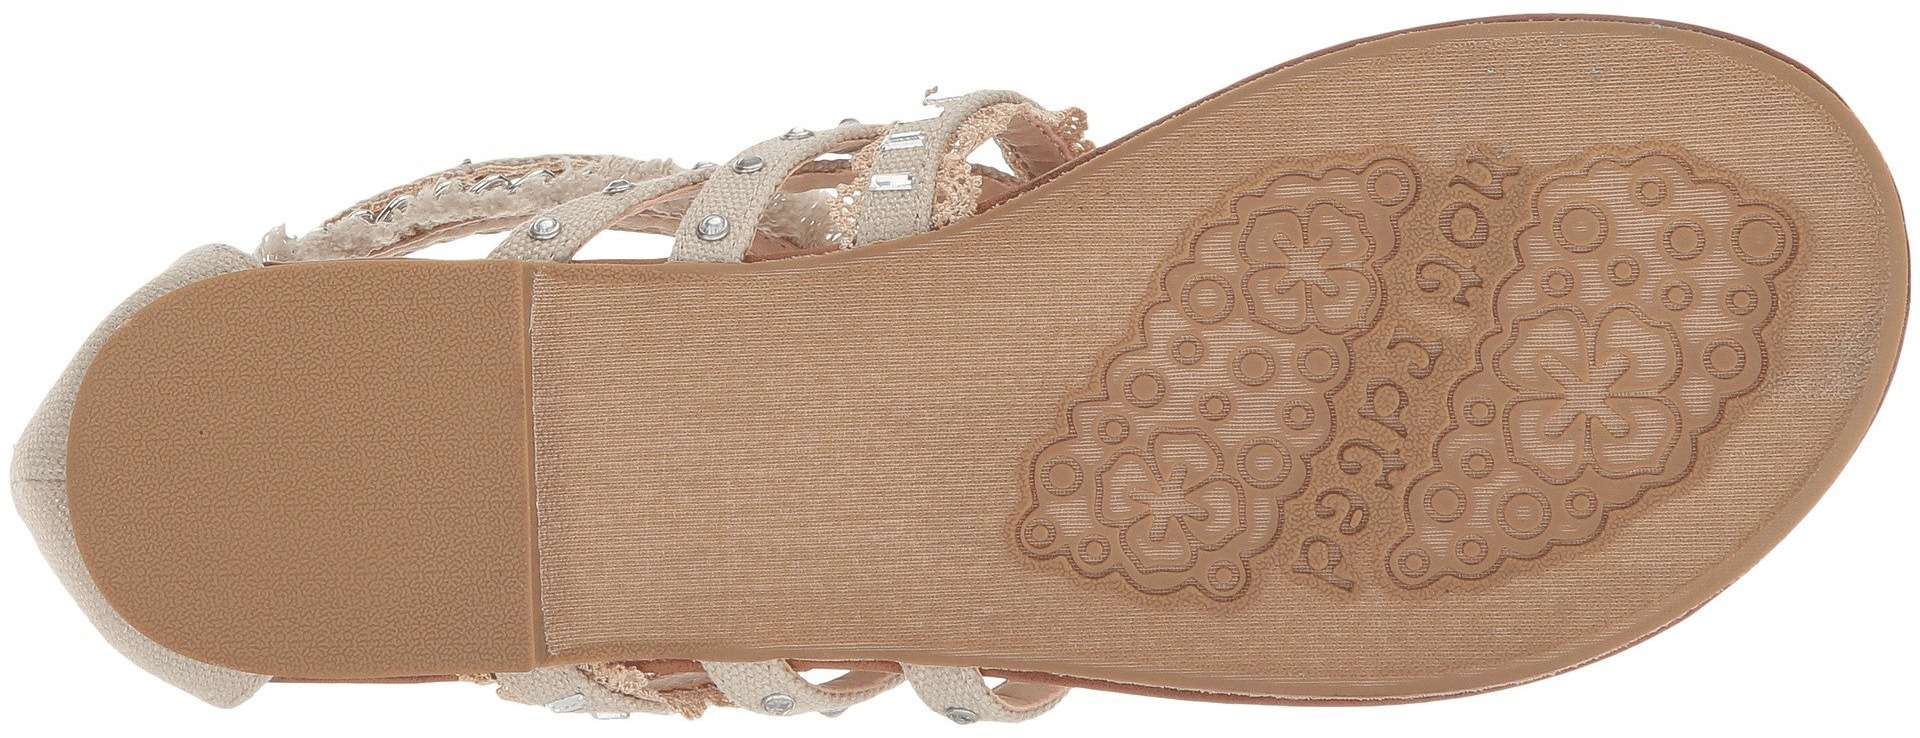circle: (1540, 180, 1719, 318), (1419, 475, 1553, 602), (1116, 317, 1260, 428), (1693, 318, 1771, 409), (1724, 208, 1800, 279), (1015, 448, 1087, 513)
exclude: (282, 651, 1120, 736)
line: (1540, 180, 1719, 318), (1419, 475, 1553, 602), (1116, 317, 1260, 428), (1693, 318, 1771, 409), (1724, 208, 1800, 279)
other: (562, 291, 951, 633), (1491, 305, 1690, 490), (1231, 195, 1373, 334), (954, 244, 1095, 370)
